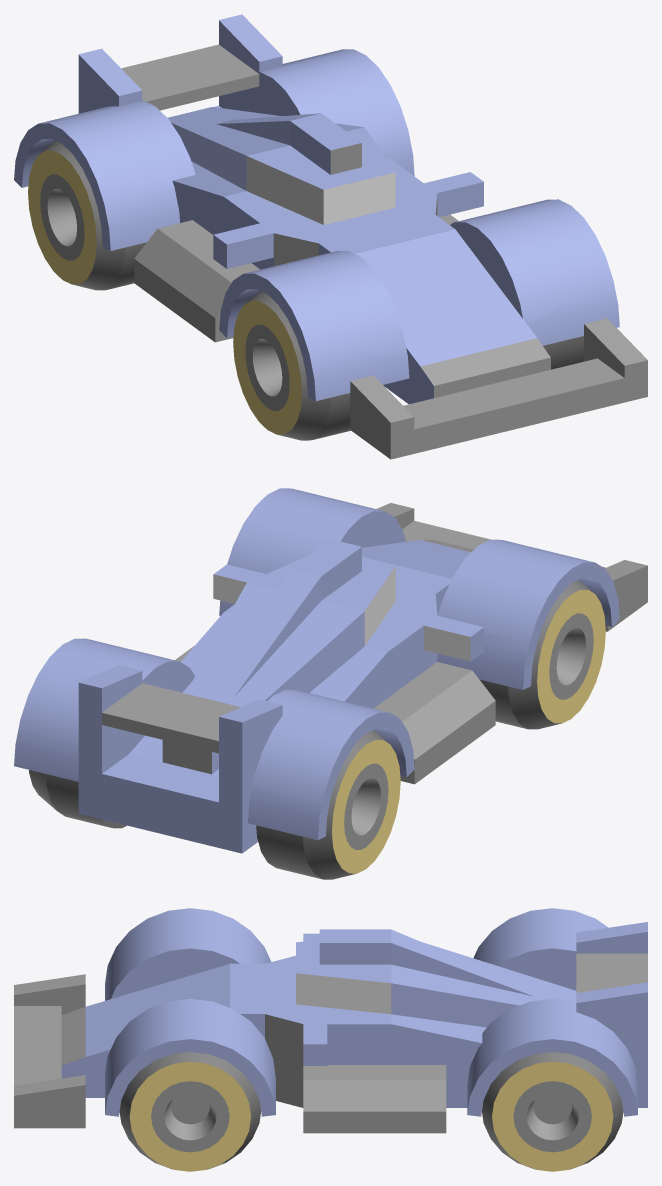
File: formula-modern.gltf
3 views of the same model, one above another, from view 1: azimuth 30°, elevation 25°; view 2: azimuth 150°, elevation 25°; view 3: azimuth 270°, elevation 25° (orthographic). The views are drawn at different scales.
Visible parts, largest first — view 1: raceFuture; view 2: raceFuture; view 3: raceFuture.
Boxes of the visible parts, bbox=[...] form: raceFuture: bbox=[14, 14, 647, 459]; raceFuture: bbox=[14, 488, 647, 879]; raceFuture: bbox=[14, 908, 647, 1171].
Bounding box in the file's own units: 0.975 × 0.6244 × 1.99.
